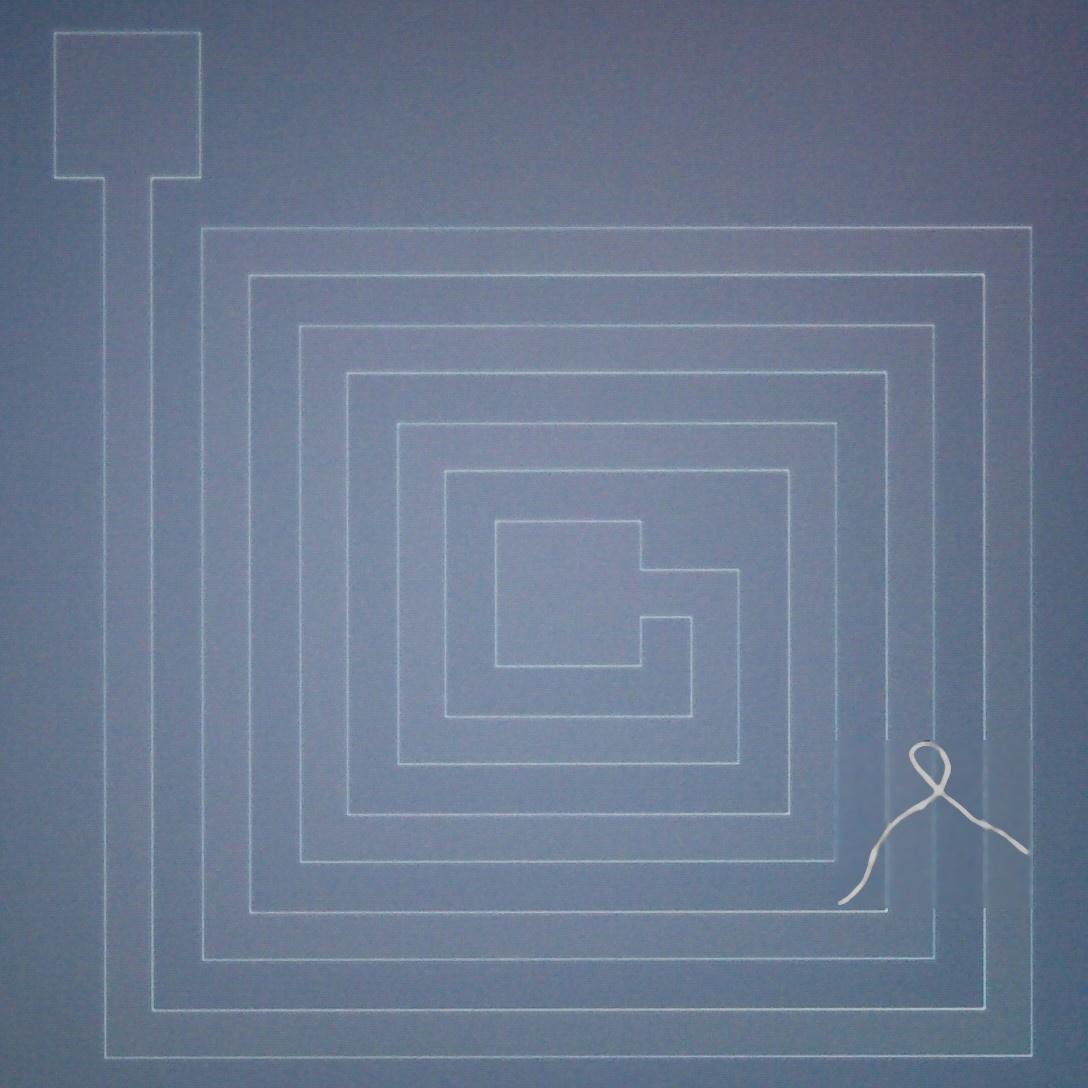foreign: (833, 733, 1039, 912)
